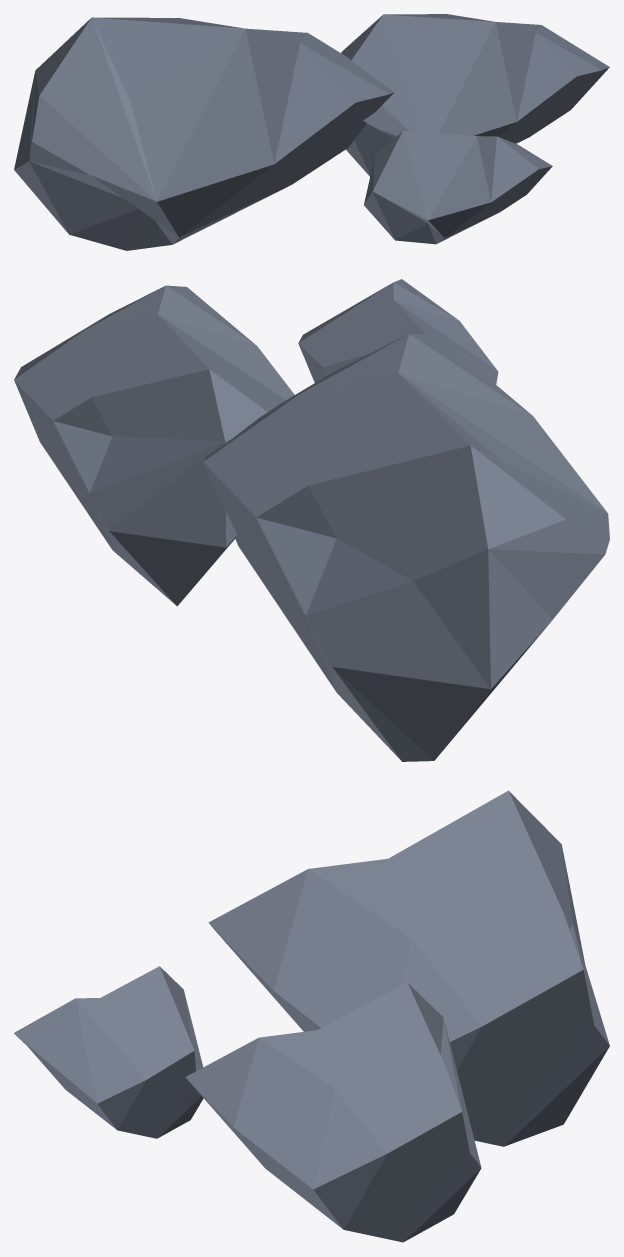
File: Rocks_Mesh.fbx
3 views of the same model, one above another, from view 1: azimuth 30°, elevation 25°; view 2: azimuth 150°, elevation 25°; view 3: azimuth 270°, elevation 25° (orthographic). The views are drawn at different scales.
Parts seen in each view (by area): view 1: Rocks_Mesh; view 2: Rocks_Mesh; view 3: Rocks_Mesh.
Part boxes in pixels (left/top/right/bottom): Rocks_Mesh: left=14, top=14, right=609, bottom=250; Rocks_Mesh: left=14, top=279, right=609, bottom=761; Rocks_Mesh: left=14, top=790, right=609, bottom=1242.
Size of the model in its own units: 95.6 by 43.29 by 74.35.
